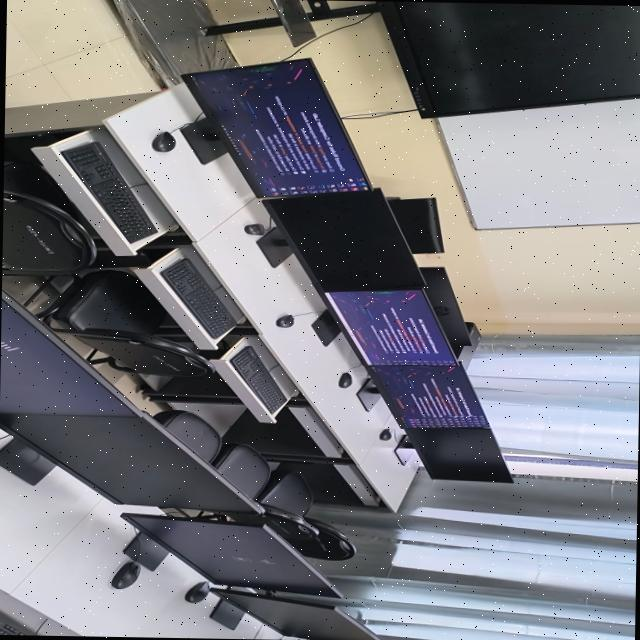Chair: (22, 269, 212, 376), (1, 161, 95, 275), (210, 443, 318, 540), (256, 468, 355, 560), (153, 410, 220, 463), (387, 197, 443, 254)
Cpu: (456, 322, 479, 371)
Digital board: (112, 0, 640, 118)
Keyboard: (60, 141, 155, 242), (159, 258, 236, 337), (229, 345, 285, 414), (0, 611, 38, 635)
Monitor: (180, 58, 370, 198), (0, 412, 256, 514), (119, 512, 340, 597), (256, 189, 423, 297), (0, 292, 140, 416), (312, 290, 455, 366), (209, 589, 382, 640), (356, 364, 488, 428), (394, 427, 512, 482), (419, 267, 471, 346)
Mouse: (110, 561, 139, 589), (184, 580, 209, 603), (151, 131, 174, 152), (243, 223, 267, 235), (275, 314, 293, 327), (338, 372, 351, 388), (378, 429, 392, 440)
